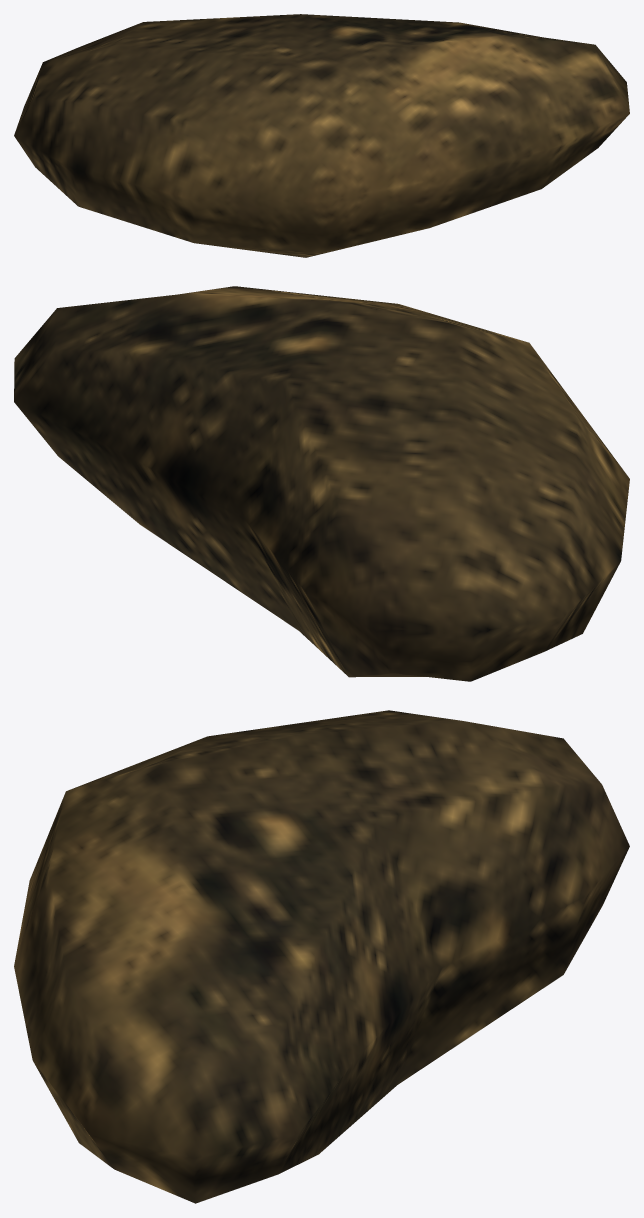
The model's file is AsteroidLarg.dae.
3 views of the same model, one above another, from view 1: azimuth 30°, elevation 25°; view 2: azimuth 150°, elevation 25°; view 3: azimuth 270°, elevation 25° (orthographic). The views are drawn at different scales.
Parts seen in each view (by area): view 1: pCube4; view 2: pCube4; view 3: pCube4.
Part boxes in pixels (x1,y1,x2,y2): pCube4: (14,14,629,257); pCube4: (14,286,629,681); pCube4: (14,710,629,1203).
Bounding box in the file's own units: 288 × 100 × 193.
Materials: 1 (1 with a texture image).
